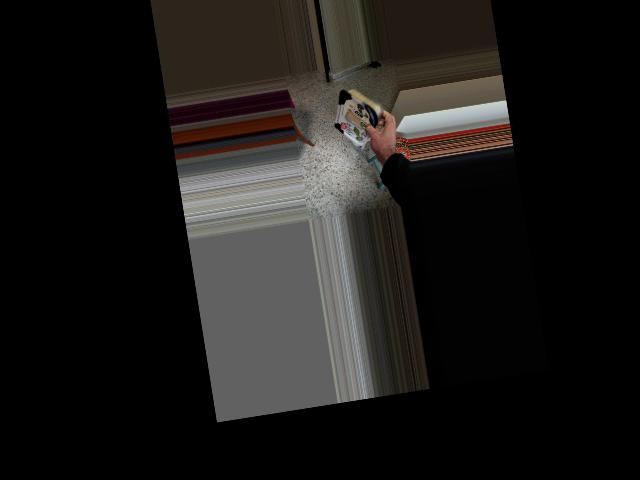cheese: (321, 81, 403, 147)
